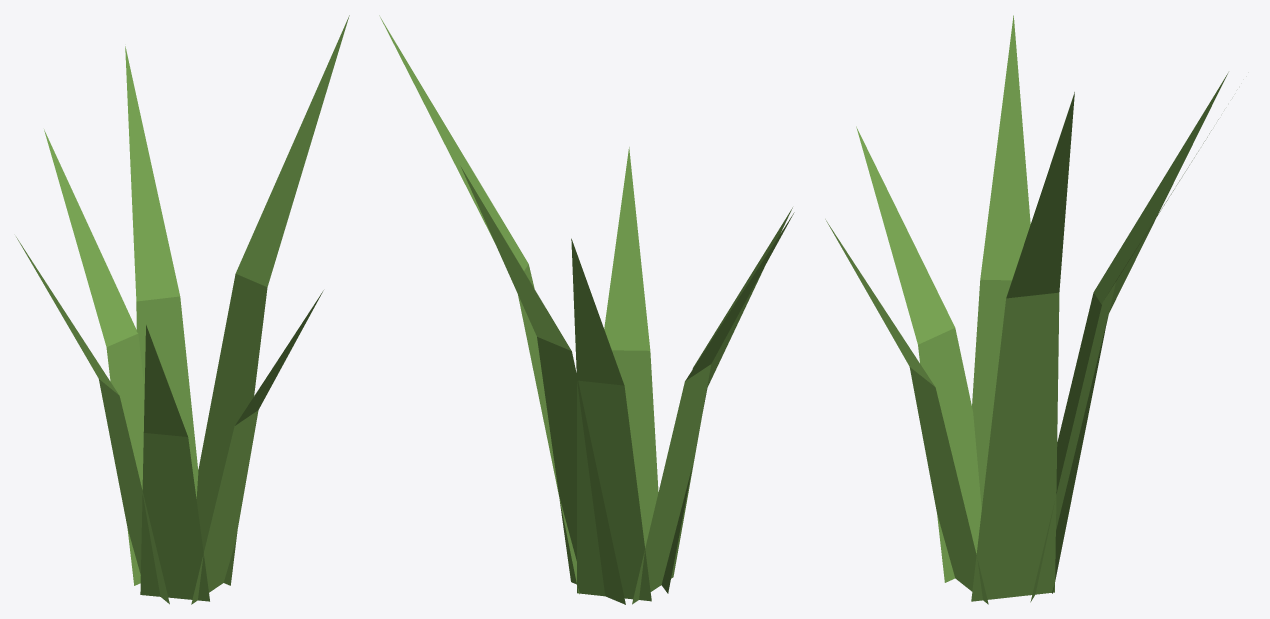
The model's file is grass.glb.
3 views of the same model, side by side, from view 1: azimuth 30°, elevation 25°; view 2: azimuth 150°, elevation 25°; view 3: azimuth 270°, elevation 25° (orthographic). The views are drawn at different scales.
Parts seen in each view (by area): view 1: Grass_Tuft; view 2: Grass_Tuft; view 3: Grass_Tuft.
Boxes of the visible parts, x1=… form: Grass_Tuft: x1=16, y1=15, x2=349, y2=604; Grass_Tuft: x1=379, y1=15, x2=794, y2=604; Grass_Tuft: x1=825, y1=15, x2=1228, y2=604.
Bounding box in the file's own units: 0.2565 × 0.34 × 0.2192.
